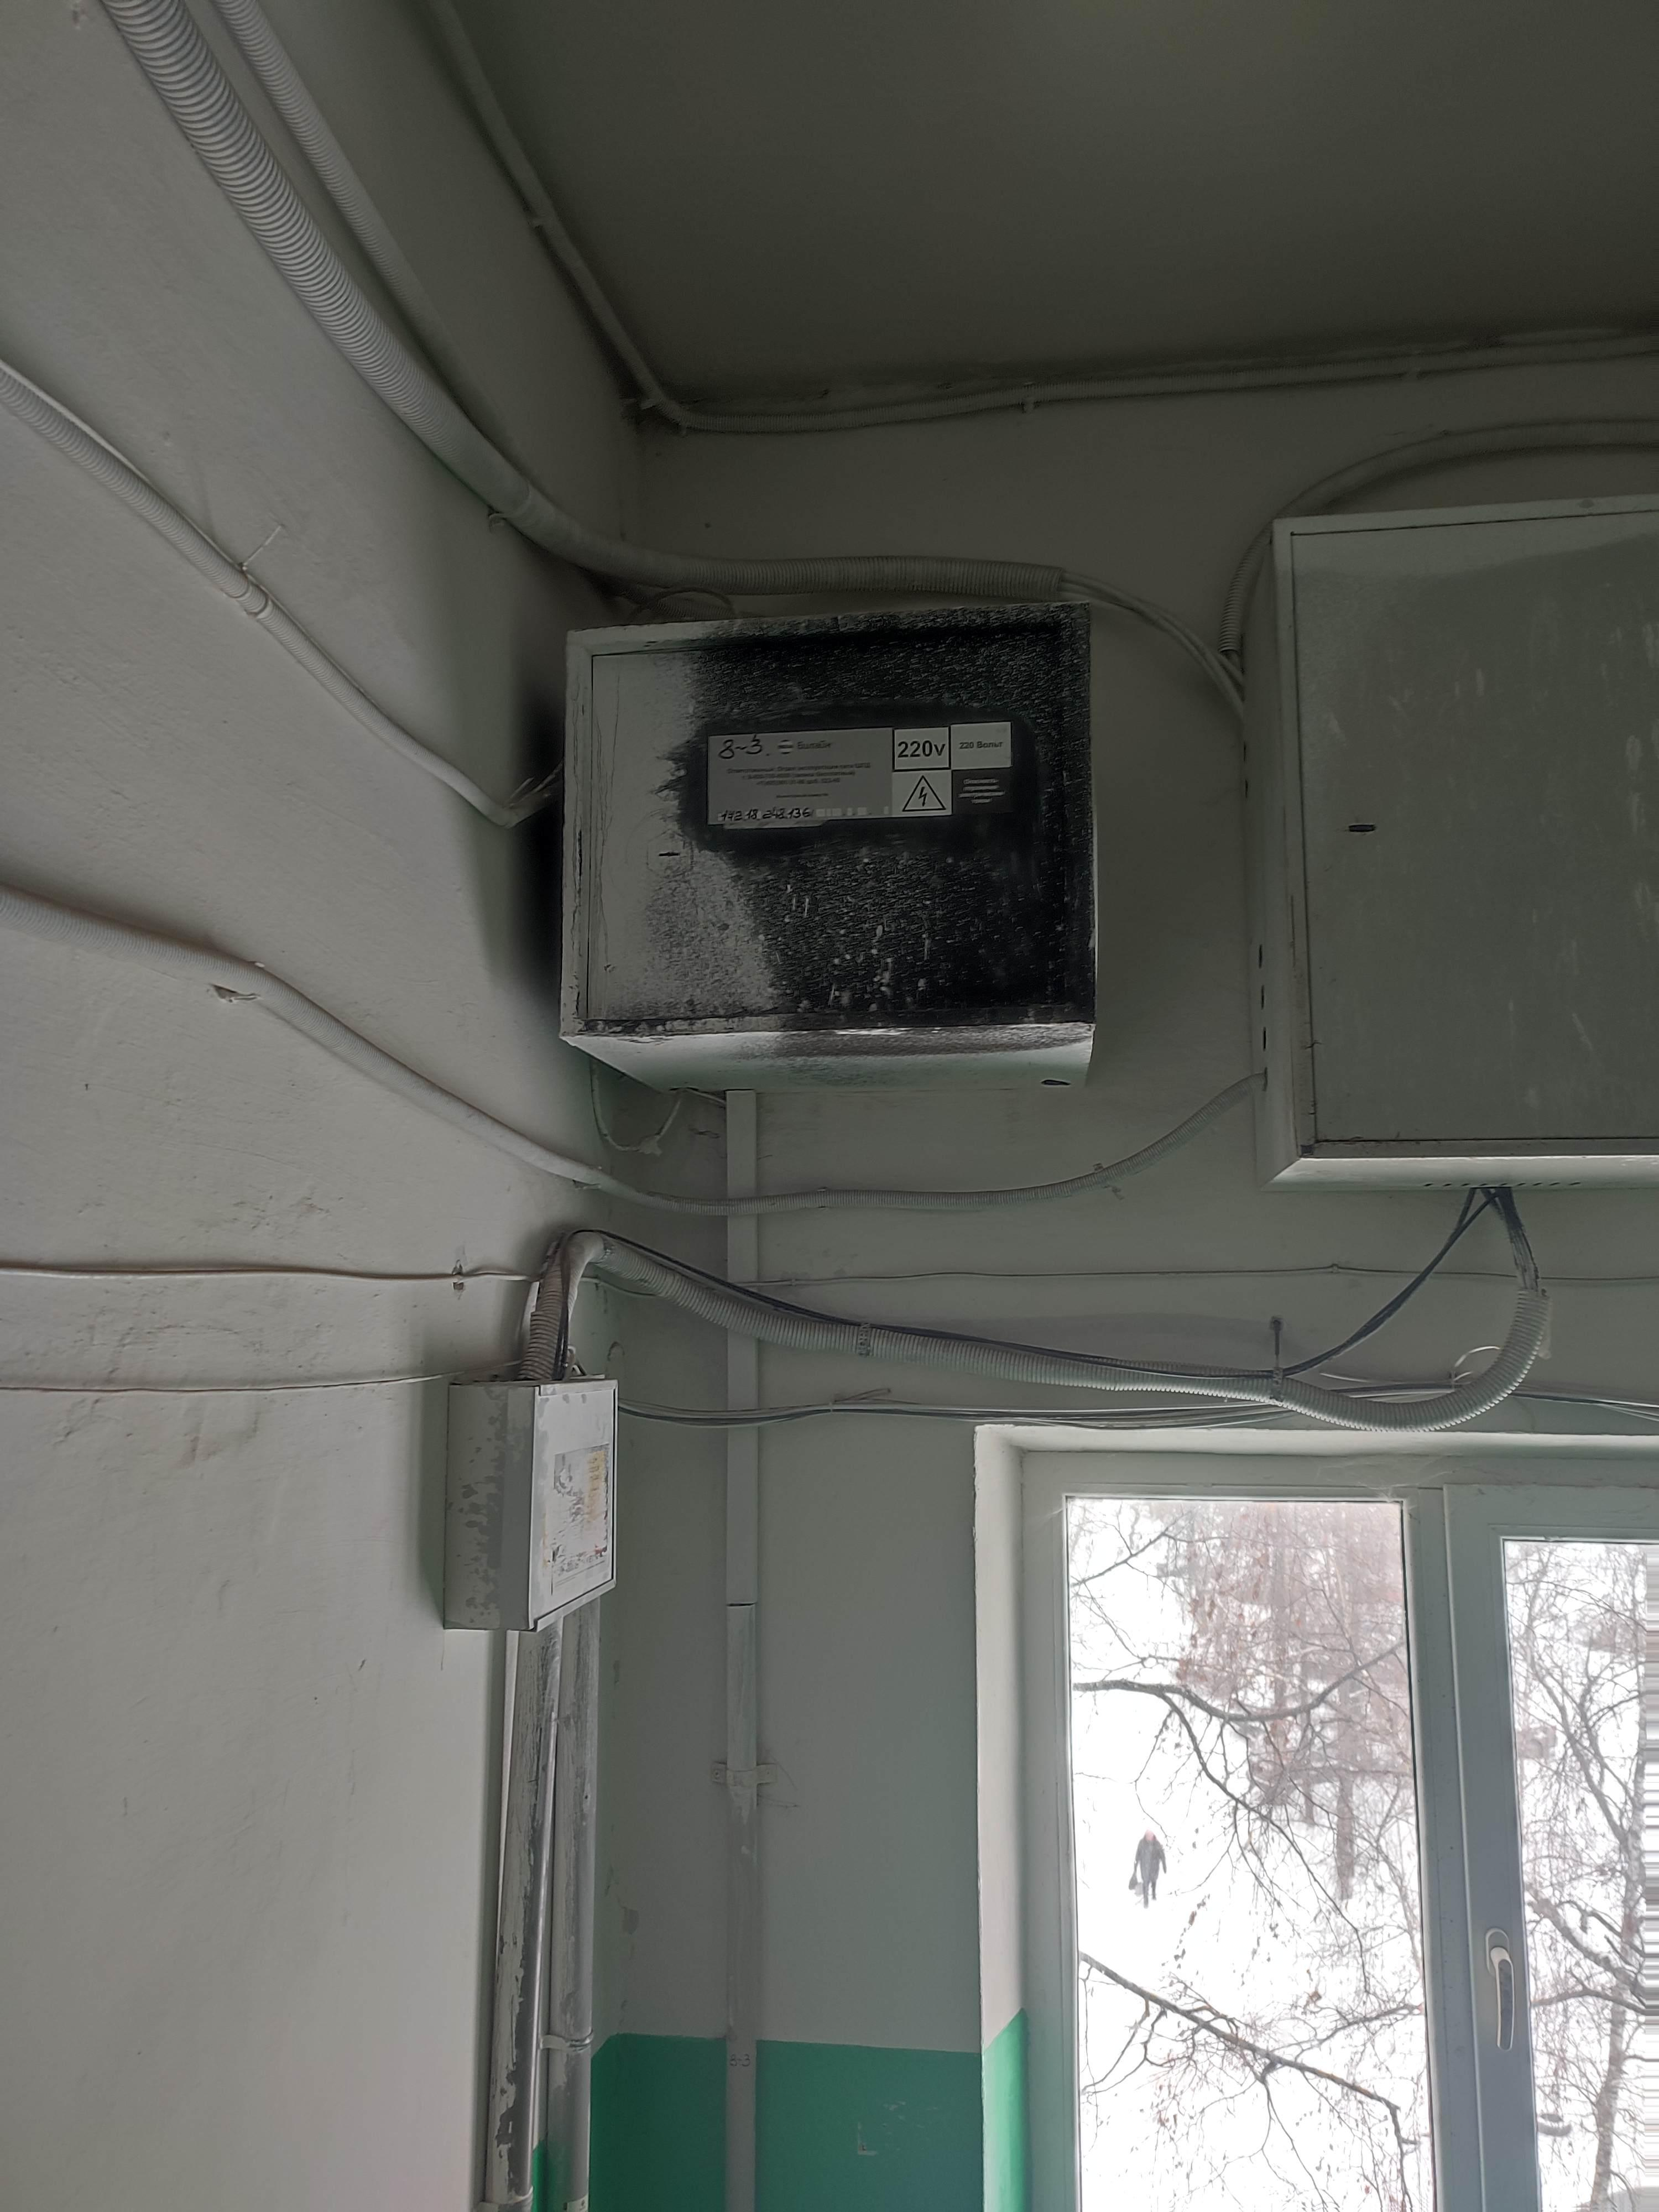shta-9m: (544, 601, 1108, 1104)
